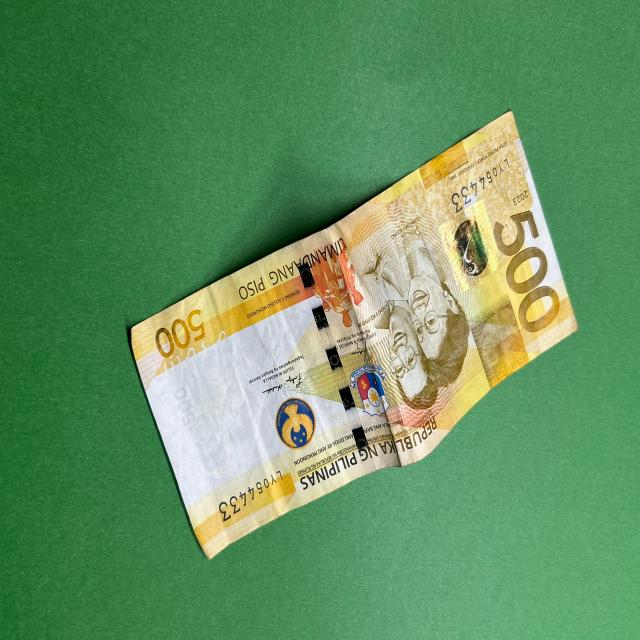concealed_value: (470, 299, 531, 388)
optically_variable_device: (441, 202, 503, 296)
security_thread: (286, 246, 387, 473)
see_through_mark: (156, 322, 237, 388)
serial_number: (205, 459, 293, 540), (440, 147, 519, 225)
value: (486, 197, 571, 340)
value_watermark: (169, 379, 199, 438)
